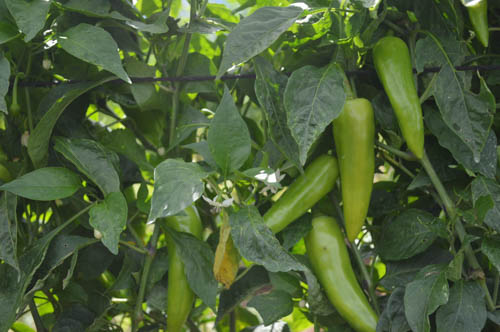ChiliPepper: (312, 214, 374, 328), (264, 152, 339, 237), (377, 36, 427, 158), (336, 98, 375, 241), (163, 208, 202, 330)
